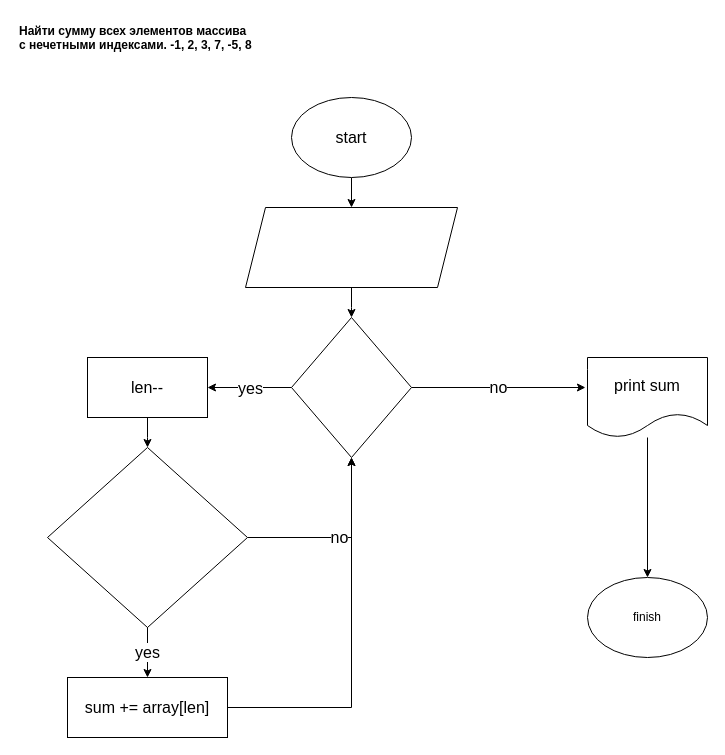
This 725x755 diagram has some shape labels left out. The shapes that lost their labels are listed below. From the top down, each one's centre as x and y in pixels, then its label:
the point at 351,247: array[ -1, 2, 3, 7, -5, 8 ] len = array.length sum = 0
the point at 351,387: len > 0
the point at 147,537: (len % 2) != 0
